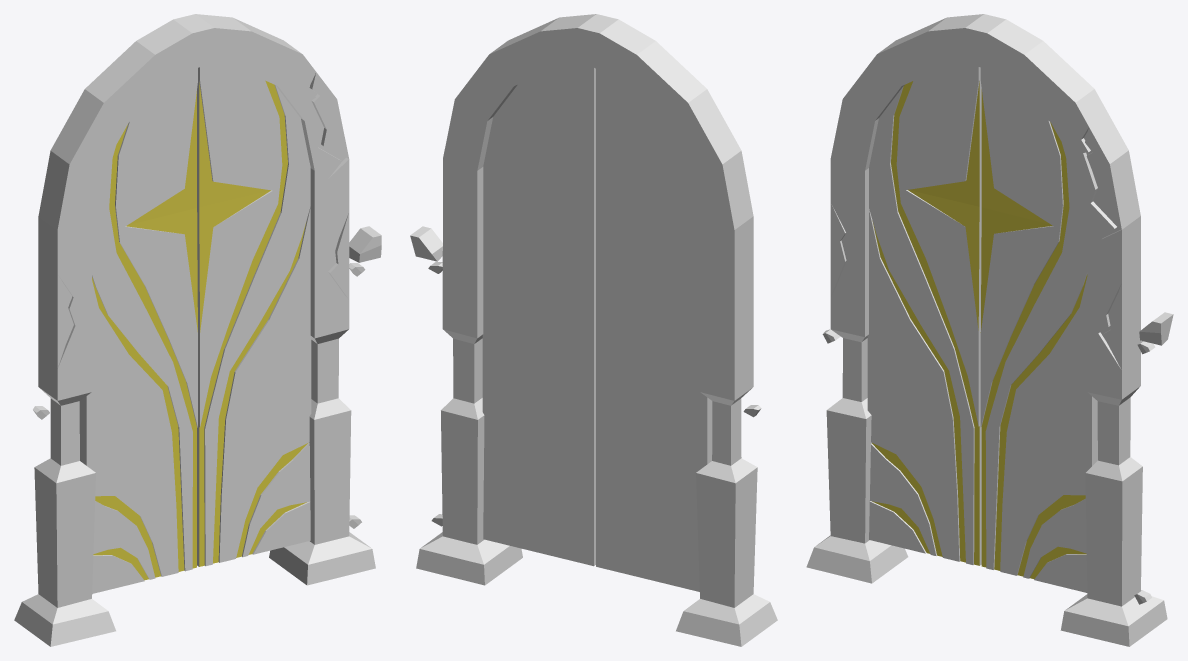
The model's file is Door 1.fbx.
3 views of the same model, side by side, from view 1: azimuth 30°, elevation 25°; view 2: azimuth 150°, elevation 25°; view 3: azimuth 330°, elevation 25° (orthographic).
Visible parts, largest first — view 1: Frame, Right Door, Left Door.001; view 2: Frame, Right Door, Left Door.001; view 3: Frame, Left Door.001, Right Door.
Boxes of the visible parts, x1,y1,x2,y2 form: Frame: (14,14,381,646); Right Door: (197,65,311,566); Left Door.001: (79,68,197,593); Frame: (410,14,777,646); Right Door: (482,65,595,566); Left Door.001: (596,69,712,591); Frame: (806,14,1173,646); Left Door.001: (867,65,981,565); Right Door: (980,67,1097,592).
Size of the model in its own units: 263 by 419 by 50.68.
